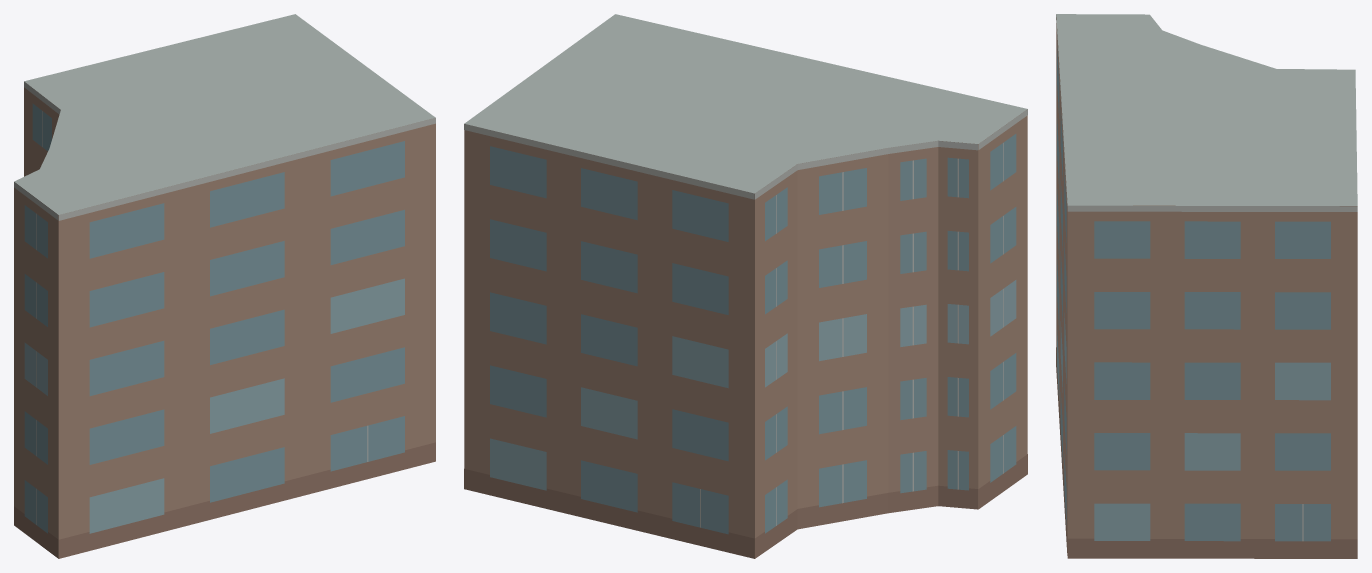
File: survey-upis-33040049.glb
3 renders of one model, left to right at view 1: azimuth 30°, elevation 25°; view 2: azimuth 150°, elevation 25°; view 3: azimuth 270°, elevation 25°, orthographic. The views are drawn at different scales.
Parts seen in each view (by area): view 1: survey-upis-33040049.tmp; view 2: survey-upis-33040049.tmp; view 3: survey-upis-33040049.tmp.
Boxes of the visible parts, box(x1,y1,x2,y2) form: survey-upis-33040049.tmp: box(14, 14, 435, 558); survey-upis-33040049.tmp: box(464, 14, 1027, 558); survey-upis-33040049.tmp: box(1056, 14, 1357, 558).
Size of the model in its own units: 16.71 by 14.3 by 11.08.
